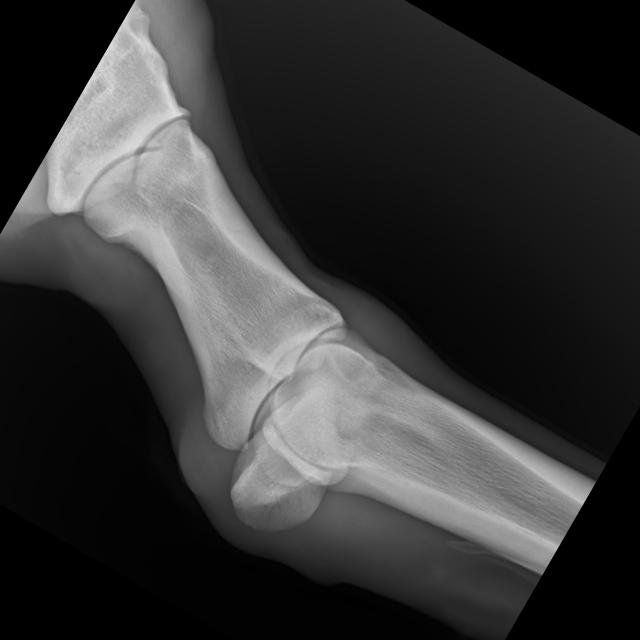joint-ht8A: (120, 222, 501, 603)
